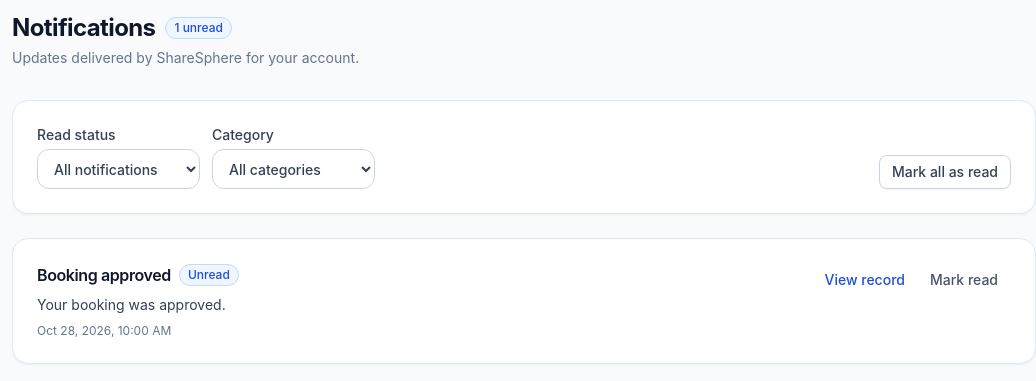
Test: NotificationsPage › persists read actions and reloads the updated notification
The image size is (1036, 381).
Check: the heading "Booking approved" is shown, box [37,263,171,287]
Click the button "Mark read": (964, 280) [917,263,1011,297]
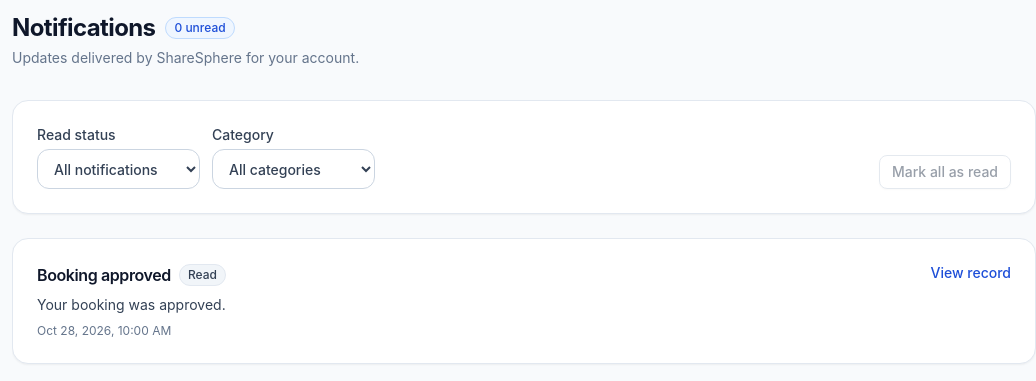
Check: the button "Mark read" is gone
